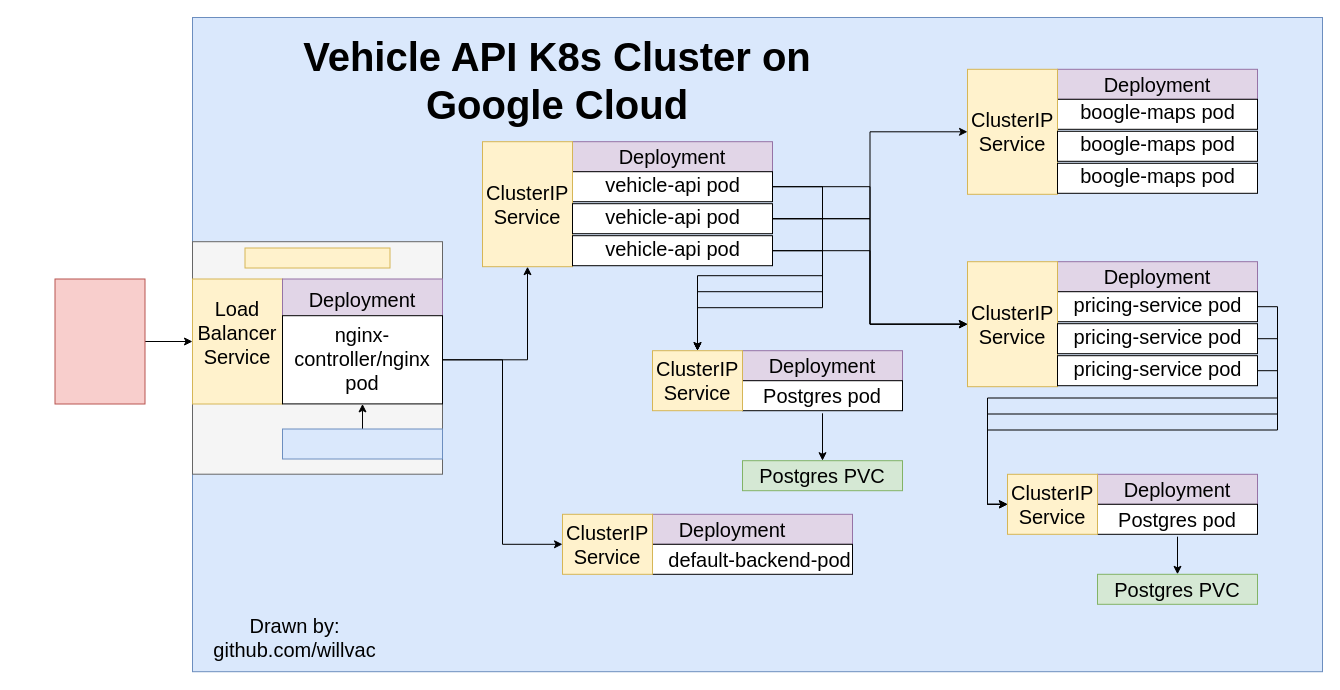
This 1340x690 diagram has some shape labels left out. Here are the shapes that lost their labels. From the top down, the centre of each, then its label:
the point at 317,257: Ingress Service
the point at 99,341: Google Cloud Load Balancer
the point at 362,443: Ingress Config
